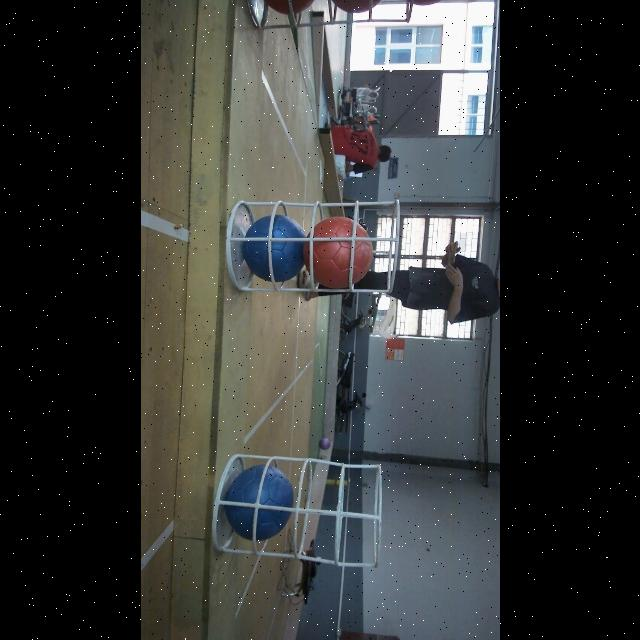B: (222, 464, 294, 542), (242, 214, 306, 284)
R: (302, 216, 372, 290)
